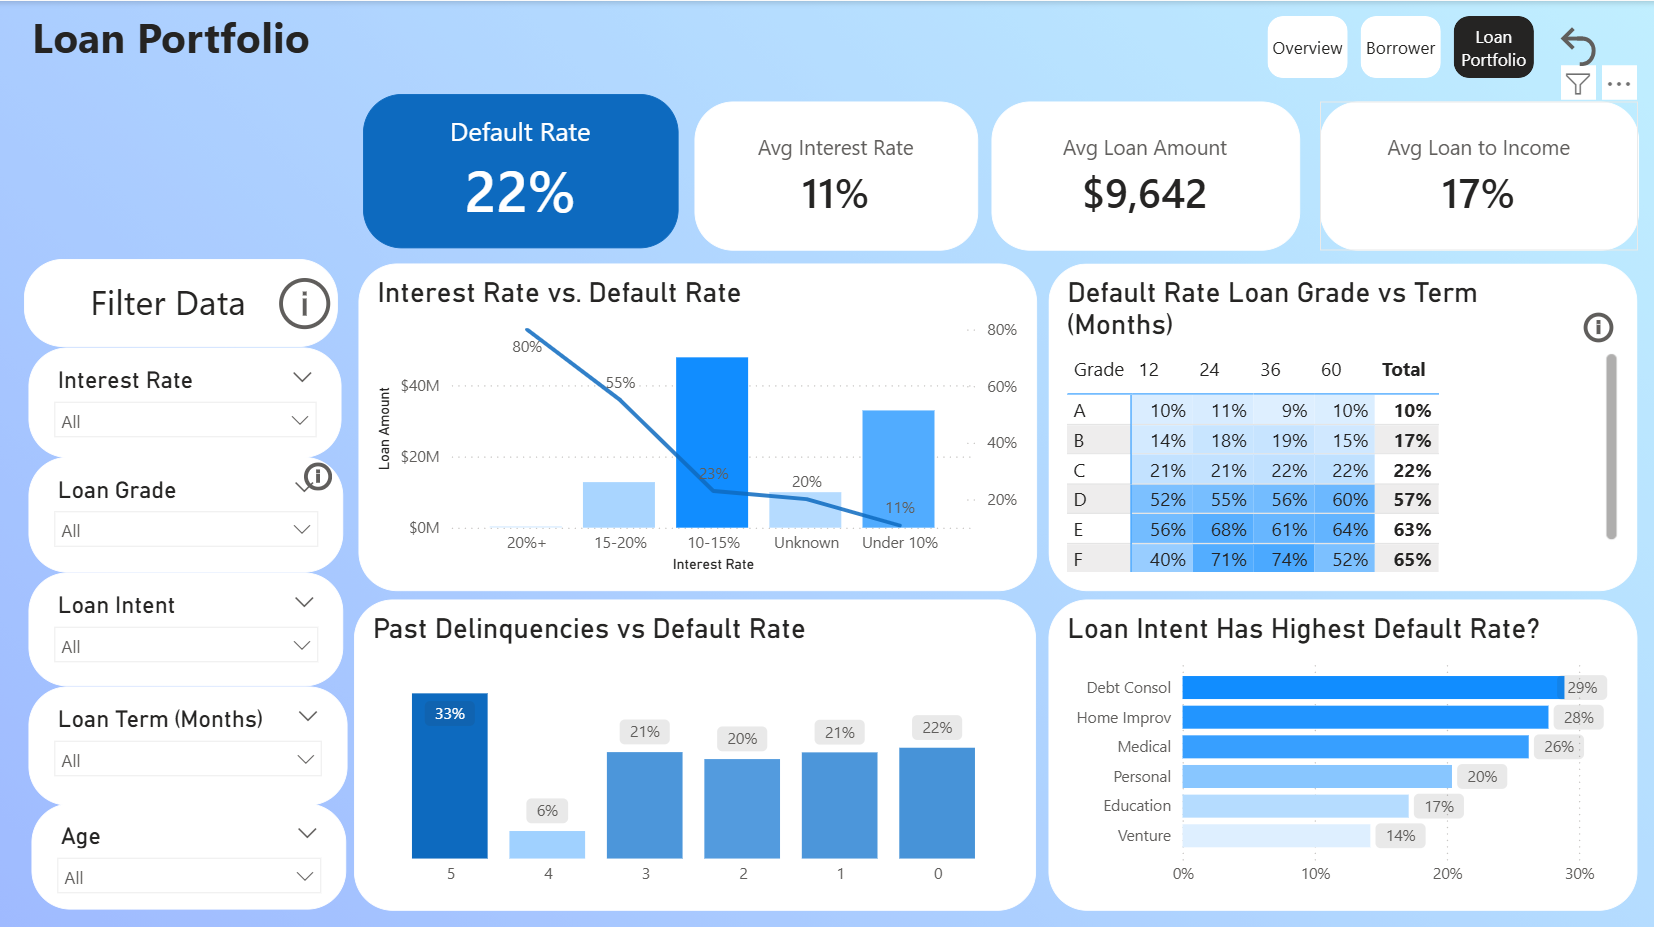

This screenshot's page, from the dashboard's own definition file:
{"tool":"powerbi","page":{"name":"Loan Portfolio","canvas":[1280,720],"ordinal":2},"visuals":[{"type":"cardVisual","fields":{"Data":["Avg(Fact_Loan.loan_int_rate)"]},"box":[536.7,77.7,219.1,115.1],"z":0},{"type":"cardVisual","fields":{"Data":["Avg(Fact_Loan.loan_amount)"]},"box":[766.9,77.7,238.5,115.1],"z":1000},{"type":"cardVisual","fields":{"Data":["Avg(Fact_Loan.loan_percent_income)"]},"box":[1020.2,77.8,246.4,115.3],"z":2000},{"type":"pivotTable","title":"Default Rate Loan Grade vs  Term (Months)","fields":{"Values":["Fact_Loan.Default rate"],"Rows":["Dim_Loan.loan_grade"],"Columns":["Dim_Loan.loan_term_months"]},"box":[811.2,203.2,455.3,253.6],"z":3000},{"type":"clusteredBarChart","title":" Loan Intent Has Highest Default Rate?","fields":{"Category":["Dim_Loan.loan_intent"],"Y":["Fact_Loan.Default rate"]},"box":[811.2,462.5,455.3,240.6],"z":4000},{"type":"clusteredColumnChart","title":"Past Delinquencies vs Default Rate","fields":{"Y":["Fact_Loan.Default rate"],"Category":["Fact_Loan.past_delinquencies"]},"box":[273.8,462.5,527.4,240.6],"z":5000},{"type":"lineClusteredColumnComboChart","title":"Interest Rate vs. Default Rate","fields":{"Y2":["Fact_Loan.Default rate"],"Y":["Sum(Fact_Loan.loan_amount)"],"Category":["Fact_Loan.loan_int_bin"]},"box":[276.7,203.2,524.5,253.6],"z":6000},{"type":"slicer","fields":{"Values":["Dim_Loan.loan_grade"]},"box":[21.6,353,243.5,89.3],"z":7000},{"type":"slicer","fields":{"Values":["Dim_Loan.loan_intent"]},"box":[21.6,442.4,243.5,87.9],"z":8000},{"type":"slicer","fields":{"Values":["Dim_Loan.loan_term_months"]},"box":[21.6,530.3,246.4,92.2],"z":9000},{"type":"slicer","fields":{"Values":["Fact_Loan.loan_int_bin"]},"box":[21.6,268,242.1,85],"z":10000},{"type":"slicer","fields":{"Values":["Dim_Borrower.age_group"]},"box":[24.5,621,243.5,82.1],"z":11000},{"type":"pageNavigator","box":[980.5,11.1,206.6,48.5],"z":12000},{"type":"textbox","box":[18,199.7,242.7,68],"z":13000},{"type":"actionButton","box":[209.4,202.5,51.3,62.4],"z":14000},{"type":"actionButton","box":[1201,15.3,66.6,40.2],"z":15000},{"type":"actionButton","box":[230.5,353,59.1,30.3],"z":17000},{"type":"textbox","box":[19.4,0,242.7,59.6],"z":18000},{"type":"actionButton","box":[1220.4,236.3,59.1,31.7],"z":19000},{"type":"cardVisual","fields":{"Data":["Fact_Loan.Default rate"]},"box":[280.1,72.1,244.1,119.3],"z":20000}]}

Visuals, with their boxes in screenshot pixels (x1, y1, x2, y2), scaled from the page's 1280x720 canvas onto the 1654x927 screenshot:
cardVisual - Avg(Fact_Loan.loan_int_rate): Rect(694, 100, 977, 248)
cardVisual - Avg(Fact_Loan.loan_amount): Rect(991, 100, 1299, 248)
cardVisual - Avg(Fact_Loan.loan_percent_income): Rect(1318, 100, 1637, 249)
"Default Rate Loan Grade vs  Term (Months)" pivotTable: Rect(1048, 262, 1637, 588)
" Loan Intent Has Highest Default Rate?" clusteredBarChart: Rect(1048, 595, 1637, 905)
"Past Delinquencies vs Default Rate" clusteredColumnChart: Rect(354, 595, 1035, 905)
"Interest Rate vs. Default Rate" lineClusteredColumnComboChart: Rect(358, 262, 1035, 588)
slicer - Dim_Loan.loan_grade: Rect(28, 454, 343, 569)
slicer - Dim_Loan.loan_intent: Rect(28, 570, 343, 683)
slicer - Dim_Loan.loan_term_months: Rect(28, 683, 346, 801)
slicer - Fact_Loan.loan_int_bin: Rect(28, 345, 341, 454)
slicer - Dim_Borrower.age_group: Rect(32, 800, 346, 905)
pageNavigator: Rect(1267, 14, 1534, 77)
textbox: Rect(23, 257, 337, 345)
actionButton: Rect(271, 261, 337, 341)
actionButton: Rect(1552, 20, 1638, 71)
actionButton: Rect(298, 454, 374, 493)
textbox: Rect(25, 0, 339, 77)
actionButton: Rect(1577, 304, 1653, 345)
cardVisual - Fact_Loan.Default rate: Rect(362, 93, 677, 246)
